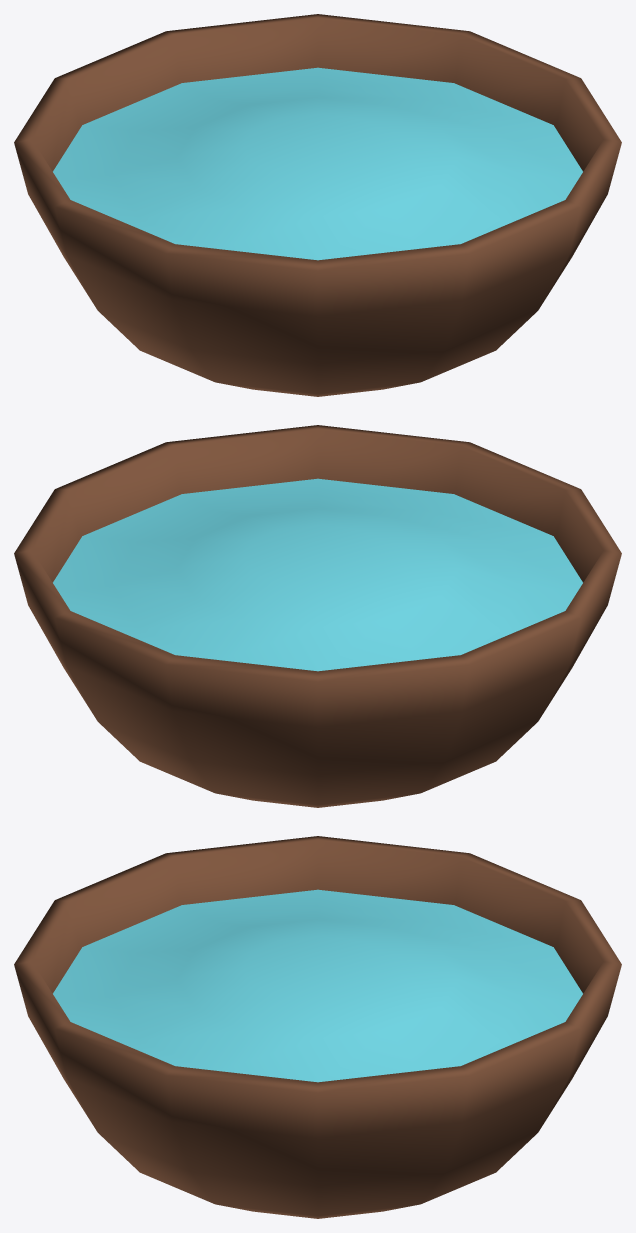
The model's file is Food Bowl.fbx.
3 views of the same model, one above another, from view 1: azimuth 30°, elevation 25°; view 2: azimuth 150°, elevation 25°; view 3: azimuth 270°, elevation 25° (orthographic).
Parts seen in each view (by area): view 1: Cylinder.025, Cylinder.026; view 2: Cylinder.025, Cylinder.026; view 3: Cylinder.025, Cylinder.026.
Part boxes in pixels (box(x1,y1,x2,y2)): Cylinder.025: box(14, 14, 621, 396); Cylinder.026: box(53, 67, 582, 260); Cylinder.025: box(14, 425, 621, 807); Cylinder.026: box(53, 478, 582, 671); Cylinder.025: box(14, 836, 621, 1218); Cylinder.026: box(53, 889, 582, 1082).
Size of the model in its own units: 44.15 by 16.22 by 44.15.
